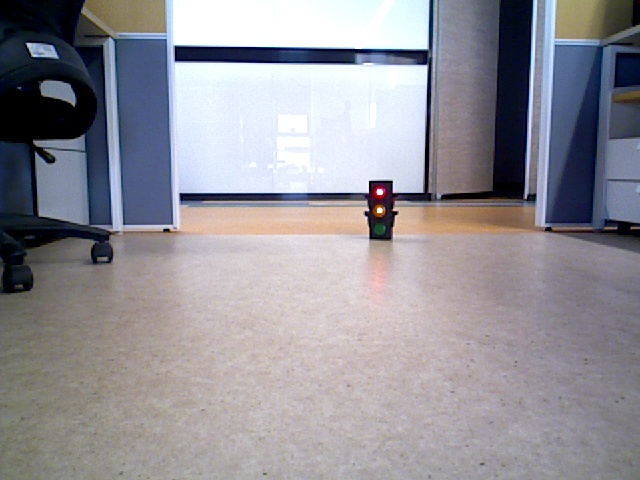red: (370, 183, 391, 235)
